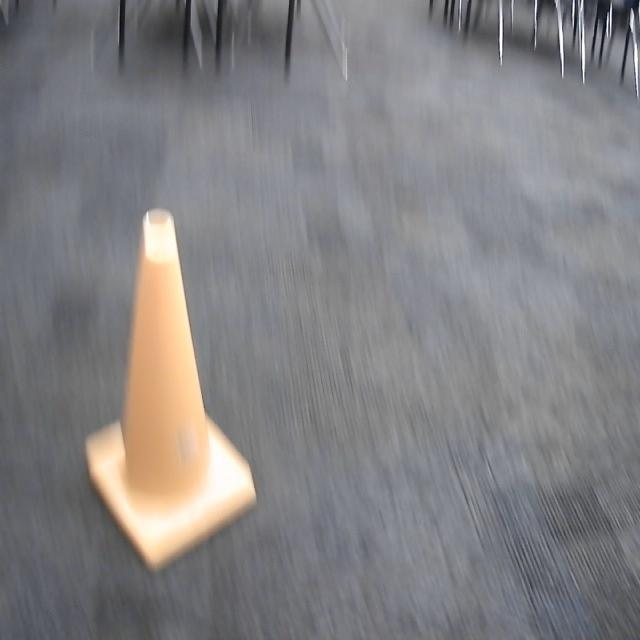cone: (78, 178, 269, 592)
